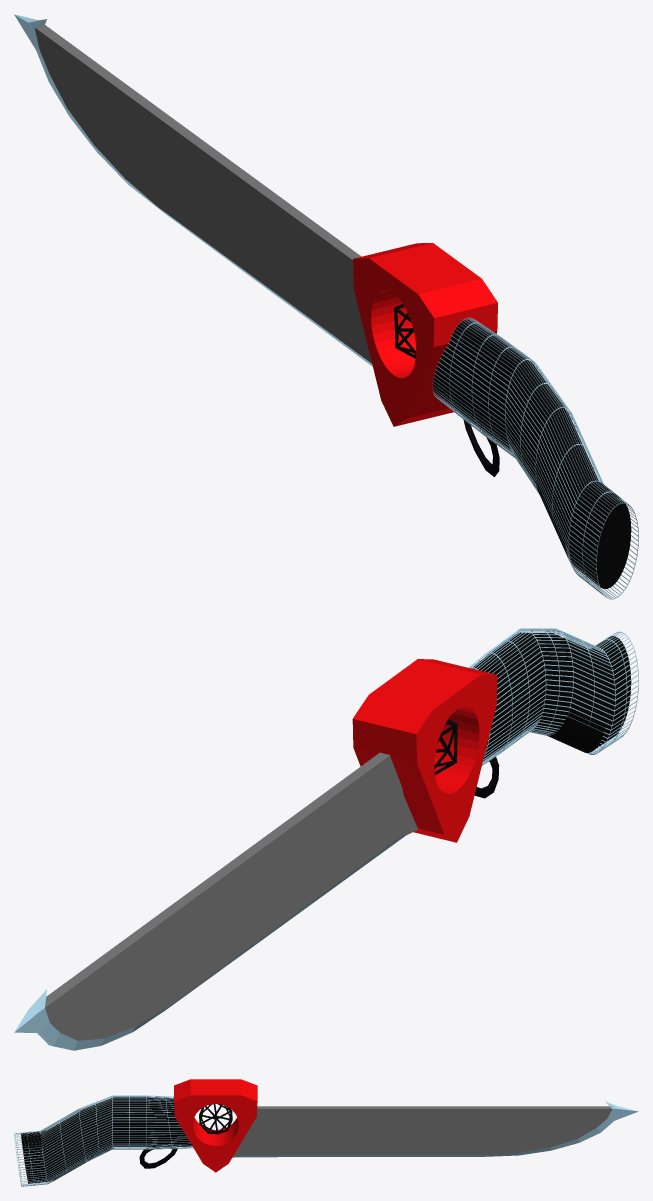
Rendered from stun_gun_final.fbx.
3 views of the same model, one above another, from view 1: azimuth 30°, elevation 25°; view 2: azimuth 150°, elevation 25°; view 3: azimuth 270°, elevation 25° (orthographic). The views are drawn at different scales.
Visible parts, largest first — view 1: handle; view 2: handle, Icosphere; view 3: handle, Icosphere.
Boxes of the visible parts, x1,y1,x2,y2 form: handle: (14, 14, 638, 599); handle: (14, 628, 638, 1050); Icosphere: (434, 719, 457, 774); handle: (14, 1079, 638, 1186); Icosphere: (199, 1104, 232, 1134).
Size of the model in its own units: 58.88 by 170 by 972.
